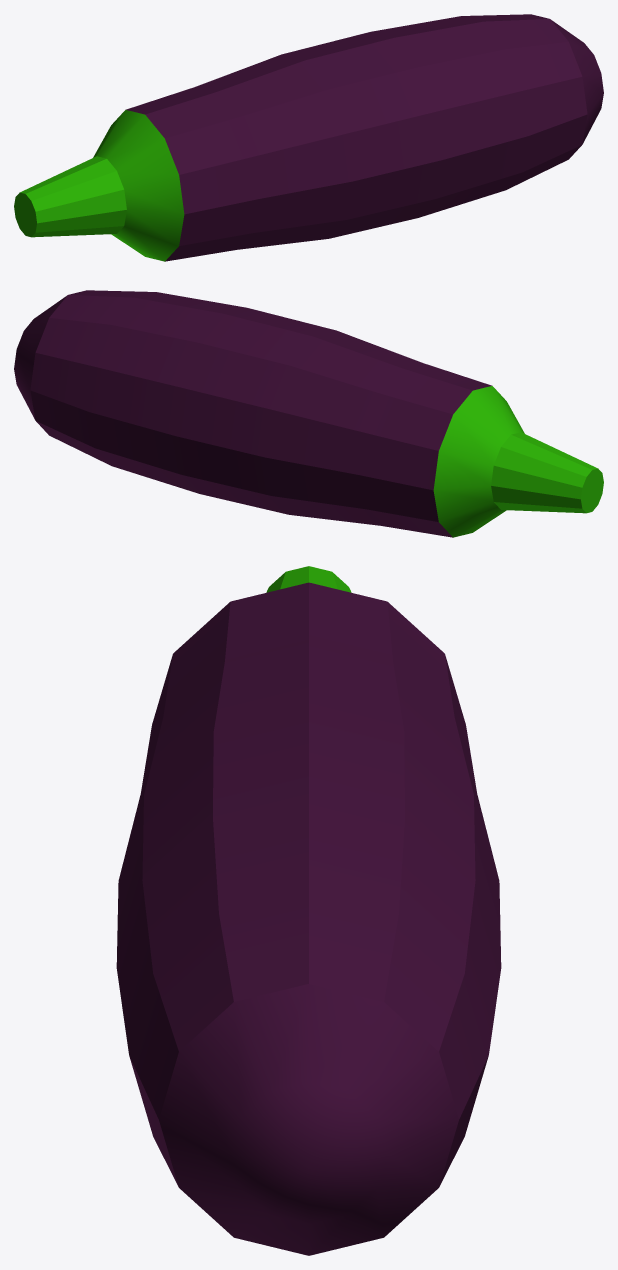
The model's file is eggplant.fbx.
3 renders of one model, top to bottom at view 1: azimuth 30°, elevation 25°; view 2: azimuth 150°, elevation 25°; view 3: azimuth 270°, elevation 25°, orthographic. The views are drawn at different scales.
Visible parts, largest first — view 1: eggplant; view 2: eggplant; view 3: eggplant.
Part boxes in pixels (box(x1,y1,x2,y2)): eggplant: box(14, 14, 603, 261); eggplant: box(14, 290, 603, 537); eggplant: box(116, 566, 501, 1255).
Size of the model in its own units: 152 by 44.07 by 44.07.
